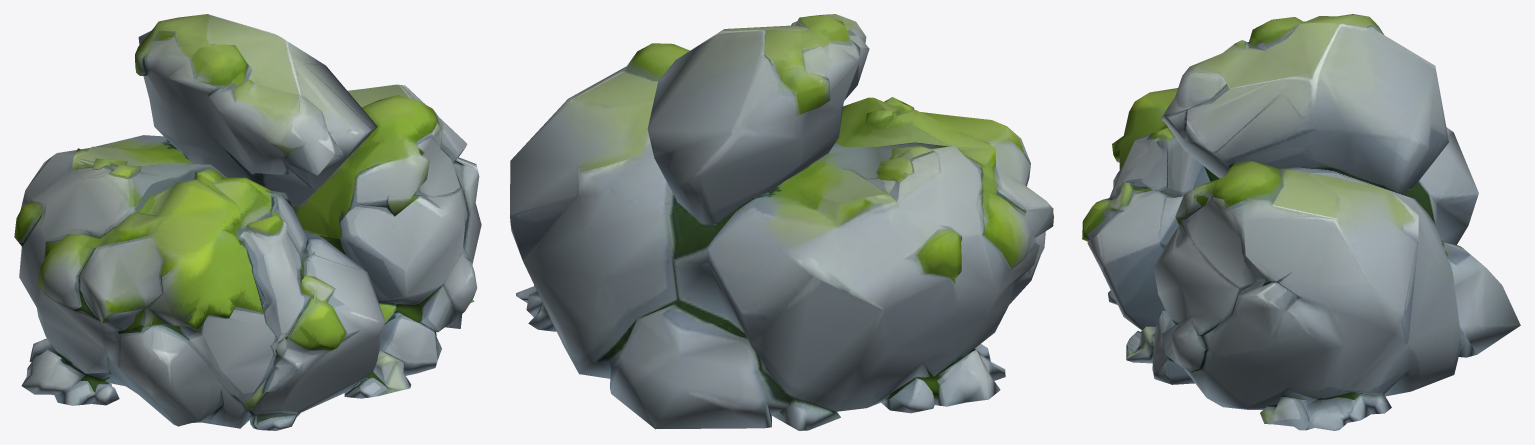
The model's file is rocks.glb.
3 renders of one model, left to right at view 1: azimuth 30°, elevation 25°; view 2: azimuth 150°, elevation 25°; view 3: azimuth 270°, elevation 25°, orthographic. The views are drawn at different scales.
Size of the model in its own units: 0.9575 by 0.6426 by 0.8593.
Materials: 1 (1 with a texture image).
